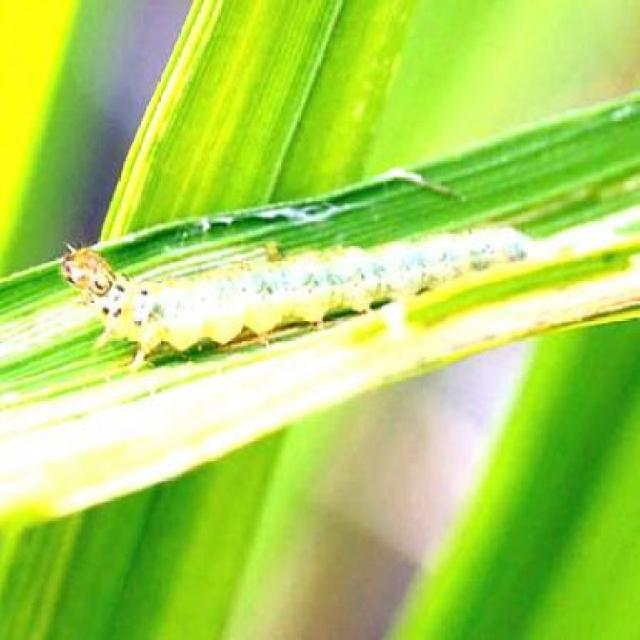leaf-folder: (46, 218, 543, 331)
